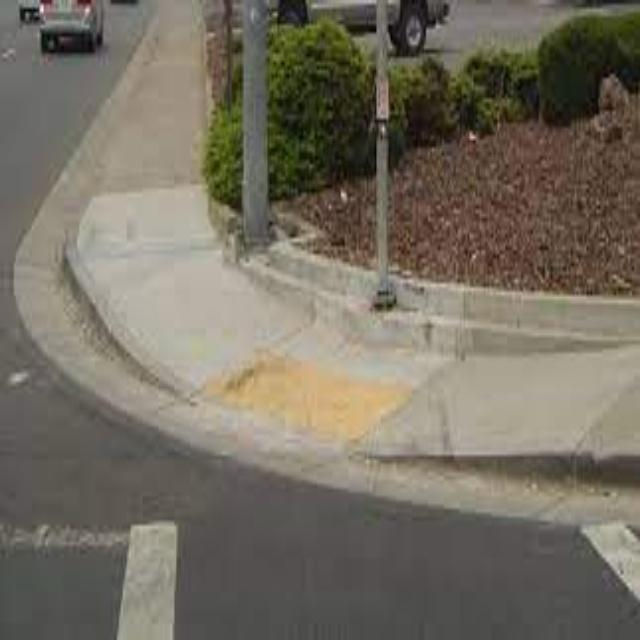curb: (240, 260, 635, 357), (61, 228, 198, 403), (391, 273, 639, 341), (356, 442, 639, 487), (266, 241, 375, 301)
